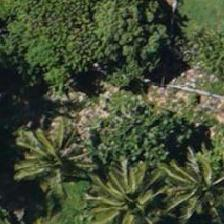coconut_tree: (12, 109, 102, 199), (85, 146, 175, 223), (162, 144, 223, 223)
